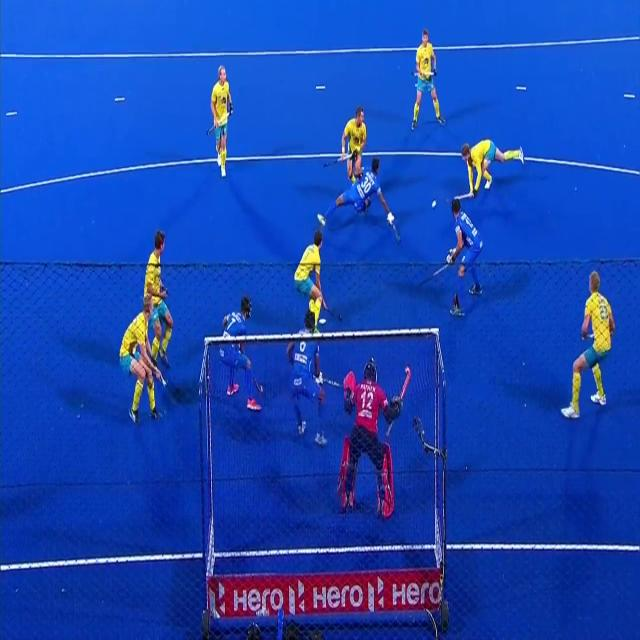ball: (429, 197, 437, 210)
